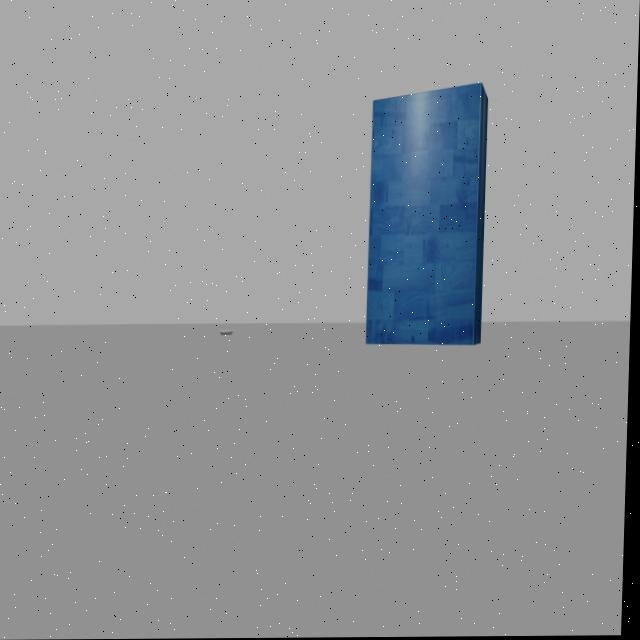bowl: (215, 318, 244, 343)
shelf: (356, 76, 500, 370)
